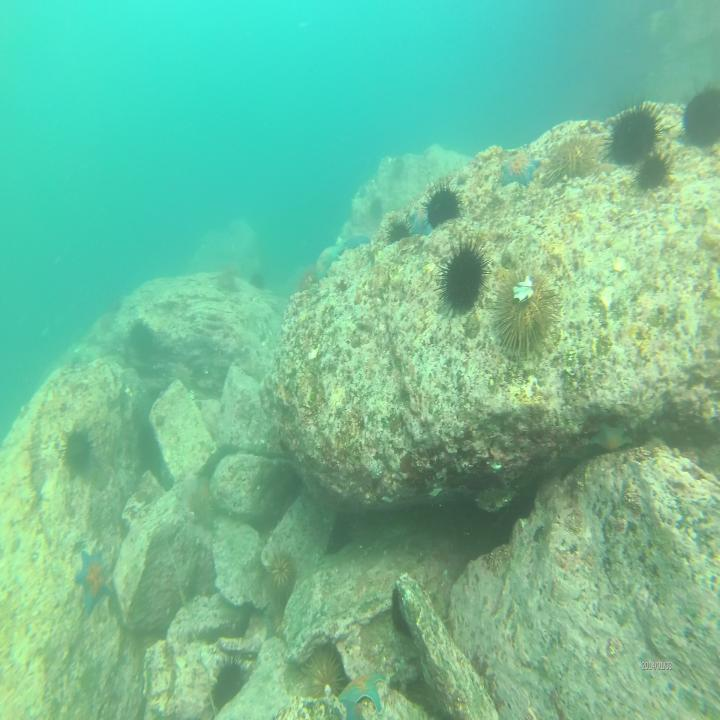echinus: (496, 265, 558, 358), (435, 235, 490, 318), (604, 99, 666, 168), (679, 81, 720, 150), (299, 648, 345, 709), (548, 130, 593, 187), (210, 652, 248, 712), (423, 179, 461, 233), (60, 427, 93, 476), (638, 147, 669, 195), (268, 548, 296, 598), (184, 484, 215, 529), (128, 320, 159, 364), (386, 216, 410, 249)
starfish: (71, 548, 112, 615), (338, 670, 388, 714), (500, 148, 542, 194), (590, 419, 632, 458), (308, 243, 344, 284)
